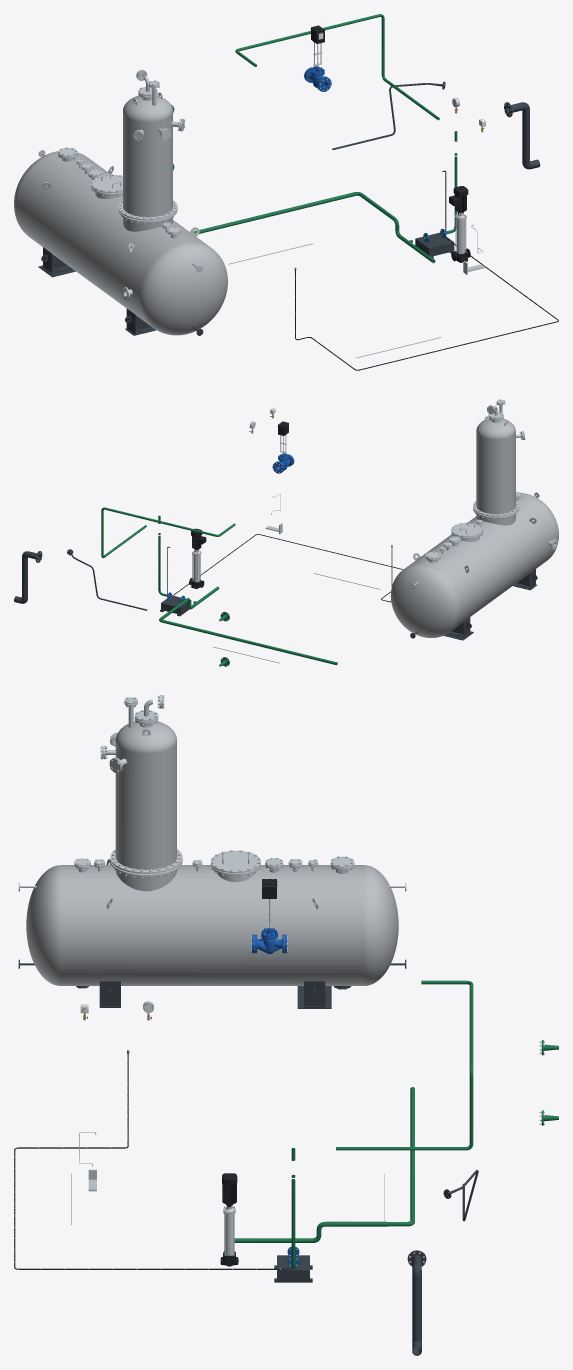
3 renders of one model, top to bottom at view 1: azimuth 30°, elevation 25°; view 2: azimuth 150°, elevation 25°; view 3: azimuth 270°, elevation 25°, orthographic. The views are drawn at different scales.
Parts seen in each view (by area): view 1: deaerator CAD solid 56, deaerator CAD solid 257, suction_common / green, to_direct / green, wiring_pump_2 / black, bdv_water_drain / dark, pump_branch_2 / dark, deaerator CAD solid 408; view 2: deaerator CAD solid 56, deaerator CAD solid 257, suction_common / green, to_direct / green, bdv_water_drain / dark, wiring_pump_2 / black, deaerator CAD solid 408, pump_branch_2 / dark; view 3: deaerator CAD solid 56, deaerator CAD solid 257, suction_common / green, to_direct / green, wiring_pump_2 / black, bdv_water_drain / dark, deaerator CAD solid 408, pump_branch_2 / dark.
Part boxes in pixels (left/top/right/bottom): deaerator CAD solid 56: left=14, top=151, right=227, bottom=335; deaerator CAD solid 257: left=123, top=95, right=172, bottom=217; suction_common / green: left=193, top=192, right=435, bottom=263; to_direct / green: left=235, top=14, right=439, bottom=120; wiring_pump_2 / black: left=295, top=170, right=558, bottom=370; bdv_water_drain / dark: left=504, top=102, right=540, bottom=169; pump_branch_2 / dark: left=415, top=232, right=454, bottom=258; deaerator CAD solid 408: left=91, top=174, right=122, bottom=193; deaerator CAD solid 56: left=390, top=493, right=558, bottom=637; deaerator CAD solid 257: left=476, top=418, right=515, bottom=514; suction_common / green: left=159, top=586, right=337, bottom=665; to_direct / green: left=101, top=507, right=228, bottom=558; bdv_water_drain / dark: left=14, top=551, right=42, bottom=603; wiring_pump_2 / black: left=167, top=534, right=403, bottom=602; deaerator CAD solid 408: left=451, top=523, right=483, bottom=537; pump_branch_2 / dark: left=160, top=595, right=191, bottom=616; deaerator CAD solid 56: left=26, top=865, right=398, bottom=985; deaerator CAD solid 257: left=115, top=721, right=176, bottom=869; suction_common / green: left=234, top=1087, right=414, bottom=1242; to_direct / green: left=336, top=980, right=473, bottom=1150; wiring_pump_2 / black: left=14, top=1053, right=291, bottom=1269; bdv_water_drain / dark: left=407, top=1250, right=426, bottom=1355; deaerator CAD solid 408: left=210, top=850, right=260, bottom=873; pump_branch_2 / dark: left=274, top=1255, right=312, bottom=1282.
Size of the model in its own units: 9.11 by 4.82 by 6.4.
